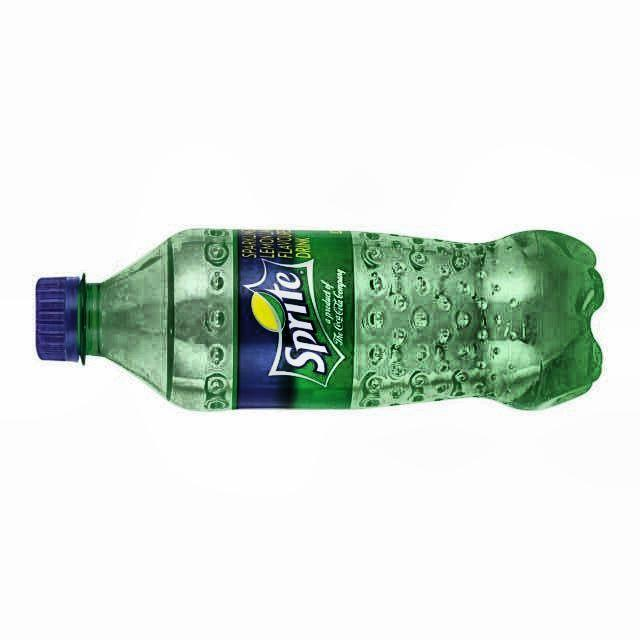plastic: (36, 229, 604, 409)
